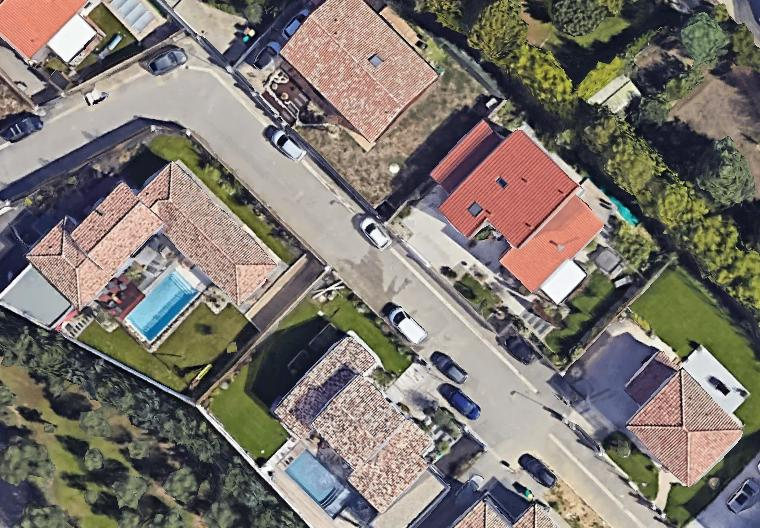maison: (23, 132, 280, 389), (415, 104, 612, 299), (268, 330, 457, 518), (274, 0, 439, 147), (603, 346, 748, 490), (0, 0, 96, 62), (453, 498, 556, 527)
